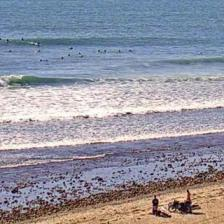surfer: (40, 58, 48, 61), (5, 50, 12, 53), (58, 56, 64, 59), (36, 42, 40, 46), (78, 56, 84, 58), (6, 38, 8, 42), (36, 50, 40, 52), (69, 47, 73, 49), (67, 54, 71, 56), (128, 50, 132, 52), (199, 52, 203, 54), (22, 38, 24, 41), (78, 52, 81, 54), (0, 38, 2, 40), (98, 50, 100, 52), (104, 50, 106, 52), (119, 50, 121, 52)
